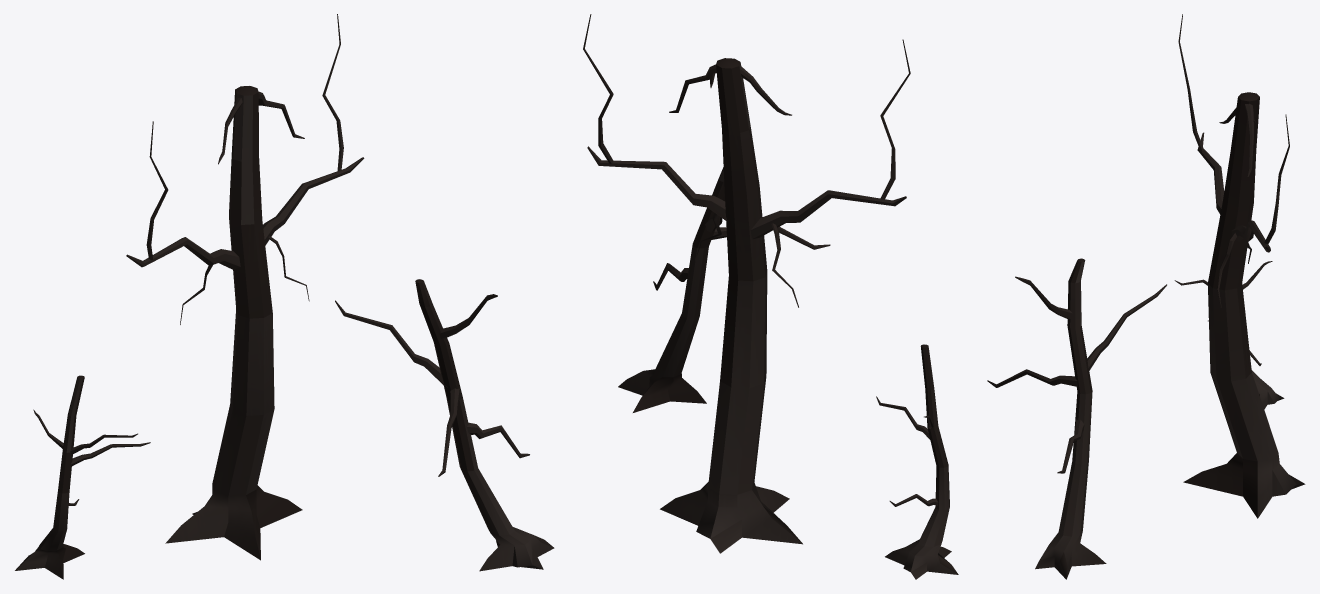
The model's file is arvore4.fbx.
3 views of the same model, side by side, from view 1: azimuth 30°, elevation 25°; view 2: azimuth 150°, elevation 25°; view 3: azimuth 270°, elevation 25° (orthographic). The views are drawn at different scales.
Visible parts, largest first — view 1: pCylinder75; view 2: pCylinder75; view 3: pCylinder75.
Part boxes in pixels (box(x1,y1,x2,y2)): pCylinder75: box(15, 14, 554, 579); pCylinder75: box(583, 14, 958, 579); pCylinder75: box(987, 14, 1305, 579).
Bounding box in the file's own units: 8.02 × 8.4 × 5.64.
